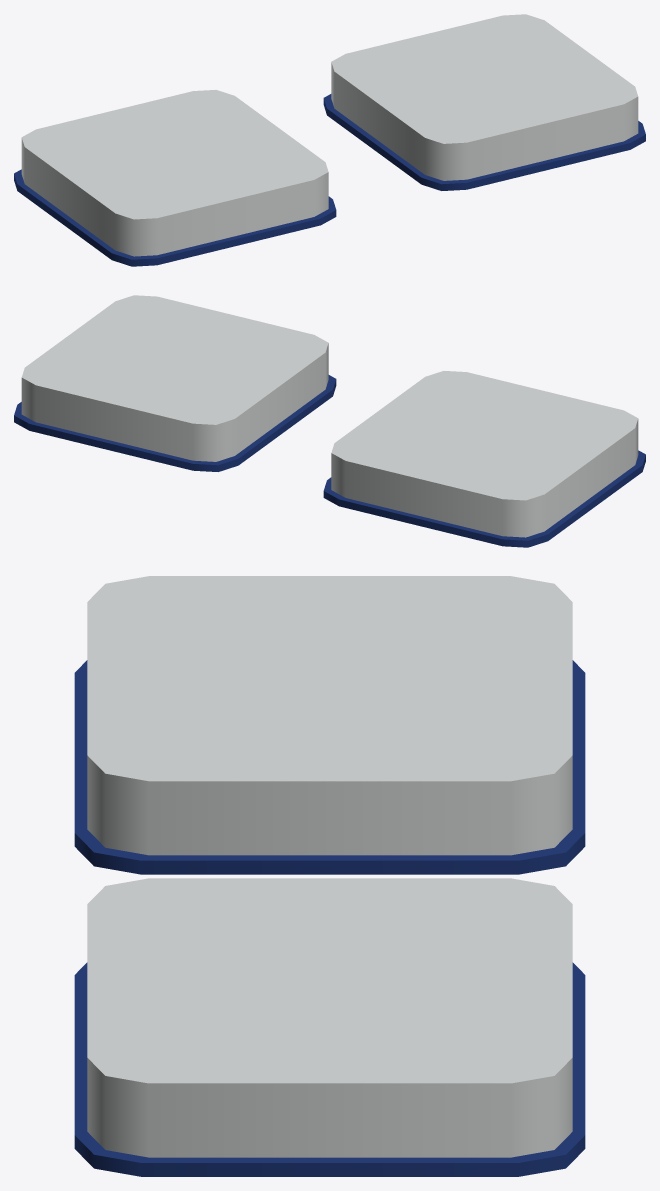
File: mo4_autodoc.obj
3 renders of one model, top to bottom at view 1: azimuth 30°, elevation 25°; view 2: azimuth 150°, elevation 25°; view 3: azimuth 270°, elevation 25°, orthographic. The views are drawn at different scales.
Visible parts, largest first — view 1: mo4_autodoc; view 2: mo4_autodoc; view 3: mo4_autodoc.
Boxes of the visible parts, <box> form: mo4_autodoc: <box>14,14,645,266</box>; mo4_autodoc: <box>14,295,645,547</box>; mo4_autodoc: <box>74,576,585,1176</box>.
Bounding box in the file's own units: 2.4 × 0.19 × 1.
